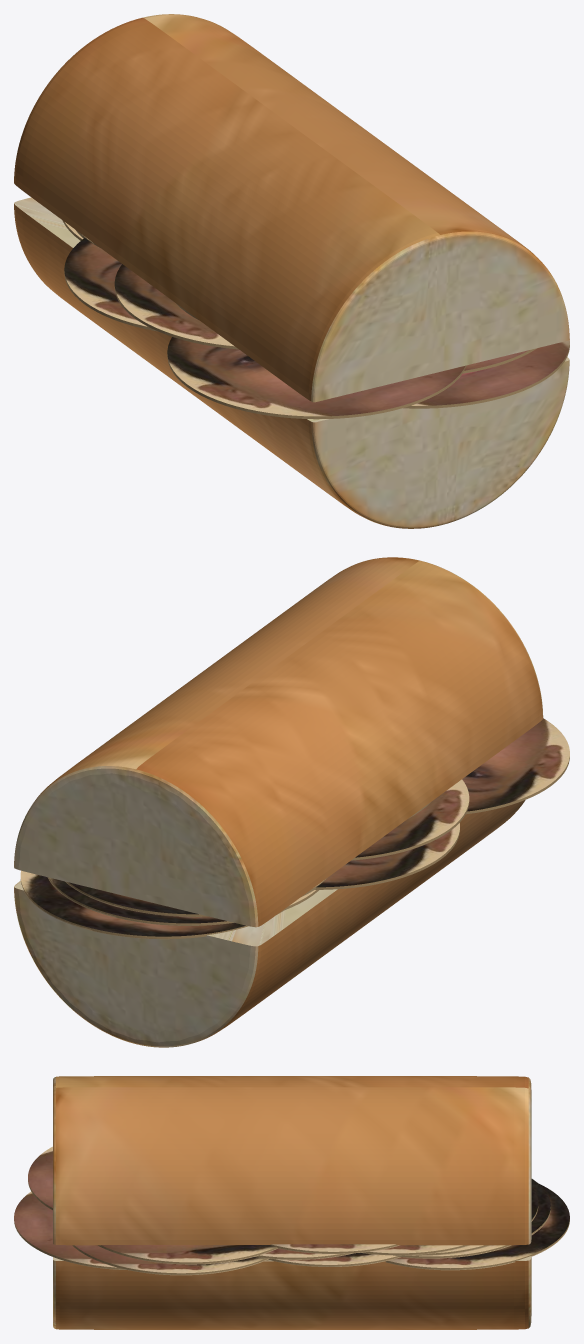
File: salami.fbx
The picture shows the model from 3 angles, top to bottom: view 1: azimuth 30°, elevation 25°; view 2: azimuth 150°, elevation 25°; view 3: azimuth 270°, elevation 25°; orthographic projection. The views are drawn at different scales.
Parts seen in each view (by area): view 1: TopBread, BottomBread, Salami.013, Salami.014, Salami.009, Salami.011; view 2: TopBread, BottomBread, Salami.013, Salami.007, Salami.009, Salami.011, Salami.002, Salami.004; view 3: TopBread, BottomBread, Salami.007, Salami.005, Salami.014, Salami.001, Salami.002, Salami.013, Salami, Salami.006, Salami.012, Salami.003 (+1 smaller).
Boxes of the visible parts, box(x1,y1,x2,y2) form: TopBread: box(14, 14, 569, 402); BottomBread: box(14, 197, 569, 528); Salami.013: box(167, 337, 466, 419); Salami.014: box(403, 339, 569, 408); Salami.009: box(114, 264, 238, 349); Salami.011: box(64, 238, 157, 331); TopBread: box(14, 557, 543, 927); BottomBread: box(14, 800, 525, 1047); Salami.013: box(462, 718, 569, 814); Salami.007: box(20, 870, 282, 939); Salami.009: box(351, 779, 469, 860); Salami.011: box(315, 823, 459, 889); Salami.002: box(47, 877, 318, 925); Salami.004: box(65, 878, 326, 916); TopBread: box(53, 1076, 531, 1245); BottomBread: box(53, 1256, 531, 1329); Salami.007: box(385, 1183, 569, 1270); Salami.005: box(97, 1245, 277, 1264); Salami.014: box(14, 1191, 126, 1269); Salami.001: box(72, 1245, 269, 1275); Salami.002: box(393, 1179, 550, 1258); Salami.013: box(28, 1146, 52, 1210); Salami: box(268, 1253, 400, 1266); Salami.006: box(270, 1244, 399, 1253); Salami.012: box(360, 1245, 469, 1255); Salami.003: box(255, 1248, 353, 1259).
Bounding box in the file's own units: 14.12 × 10.51 × 22.88.
Materials: 2 (2 with a texture image).
